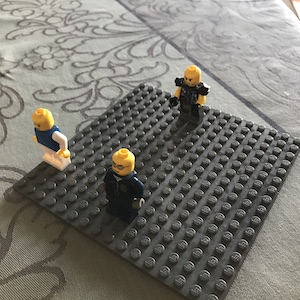Lego: (104, 148, 144, 222), (30, 108, 73, 171), (173, 64, 209, 126)
